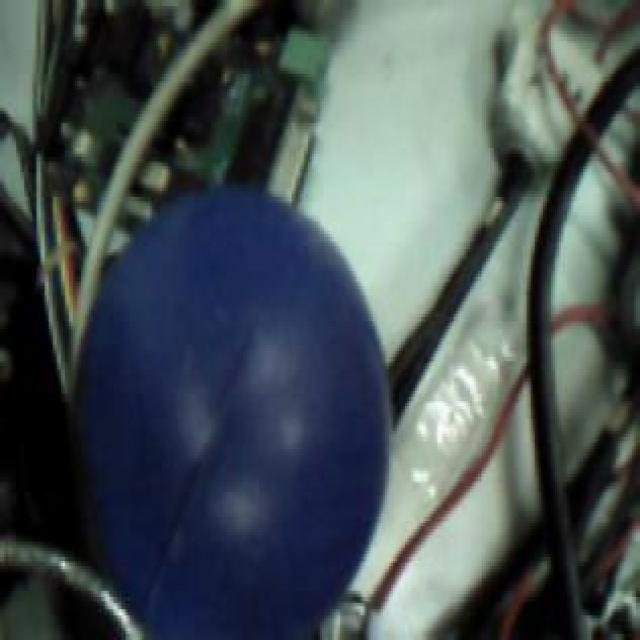BallPurple: (78, 185, 390, 640)
